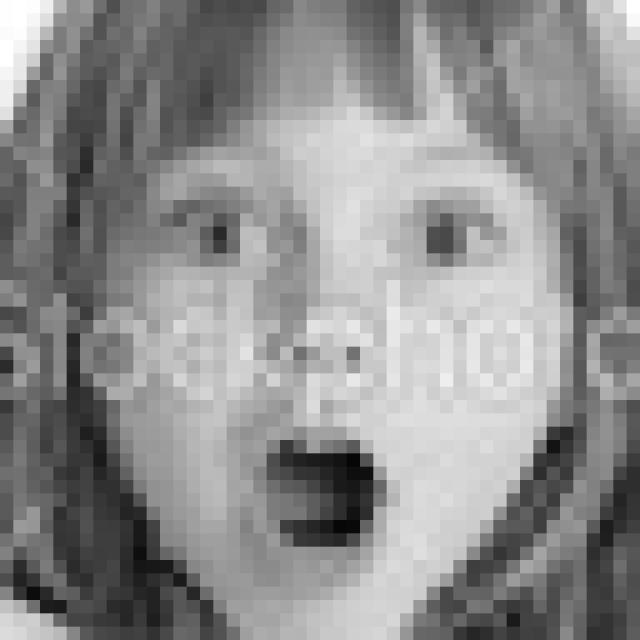surprise: (128, 137, 532, 600)
